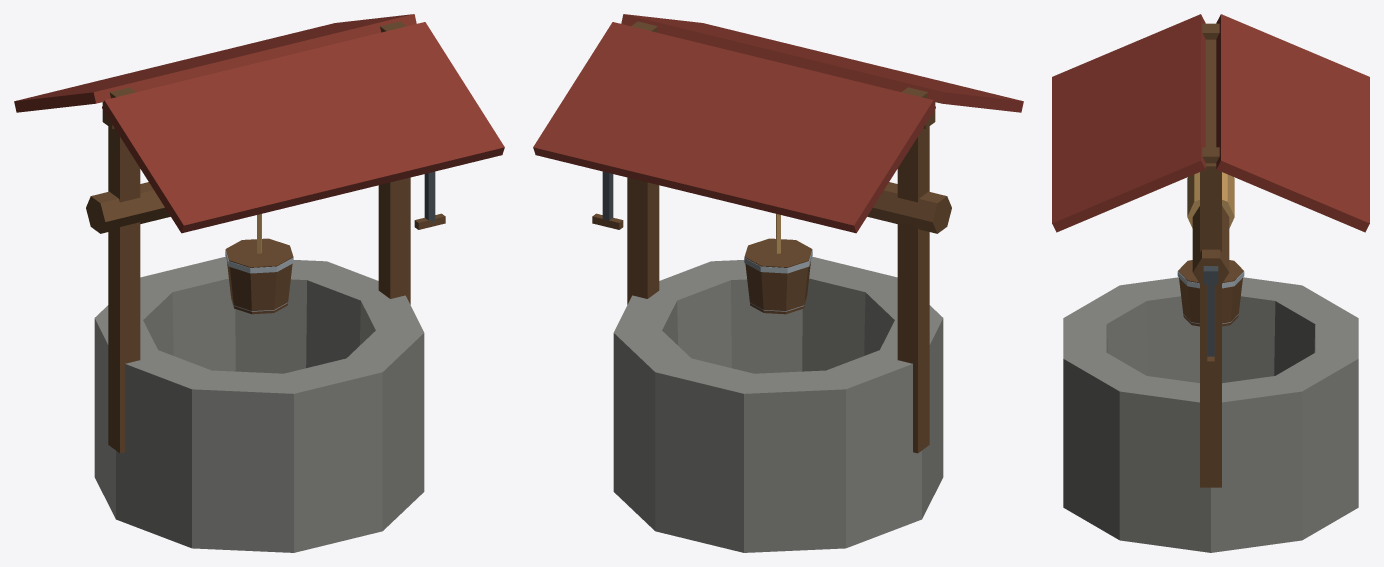
Rendered from FM_Well_01.glb.
3 renders of one model, left to right at view 1: azimuth 30°, elevation 25°; view 2: azimuth 150°, elevation 25°; view 3: azimuth 270°, elevation 25°, orthographic. The views are drawn at different scales.
Visible parts, largest first — view 1: FM_Well_01; view 2: FM_Well_01; view 3: FM_Well_01.
Boxes of the visible parts, x1,y1,x2,y2 form: FM_Well_01: (14, 14, 504, 552); FM_Well_01: (533, 14, 1023, 552); FM_Well_01: (1052, 14, 1369, 552).
Size of the model in its own units: 2.06 by 2.42 by 1.74.
Materials: 1 (1 with a texture image).
